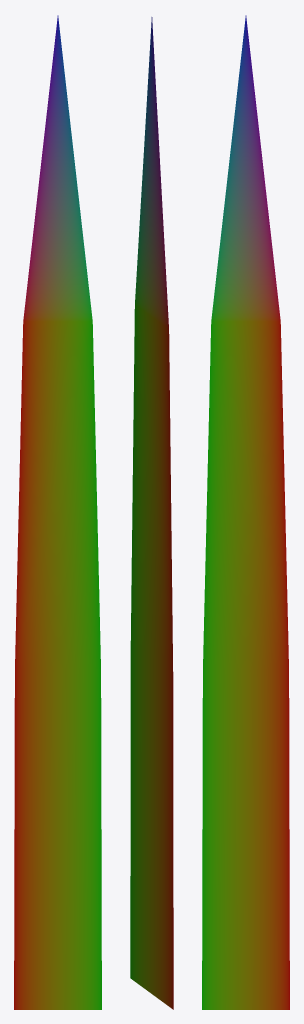
File: blade_lod1.fbx
The picture shows the model from 3 angles, left to right: view 1: azimuth 90°, elevation 25°; view 2: azimuth 210°, elevation 25°; view 3: azimuth 270°, elevation 25°; orthographic projection.
Visible parts, largest first — view 1: LOD1; view 2: LOD1; view 3: LOD1.
Part boxes in pixels (x1,y1,x2,y2): LOD1: (14,15,101,1009); LOD1: (130,17,173,1009); LOD1: (202,15,289,1009).
Size of the model in its own units: 6.04e-07 by 4 by 50.
